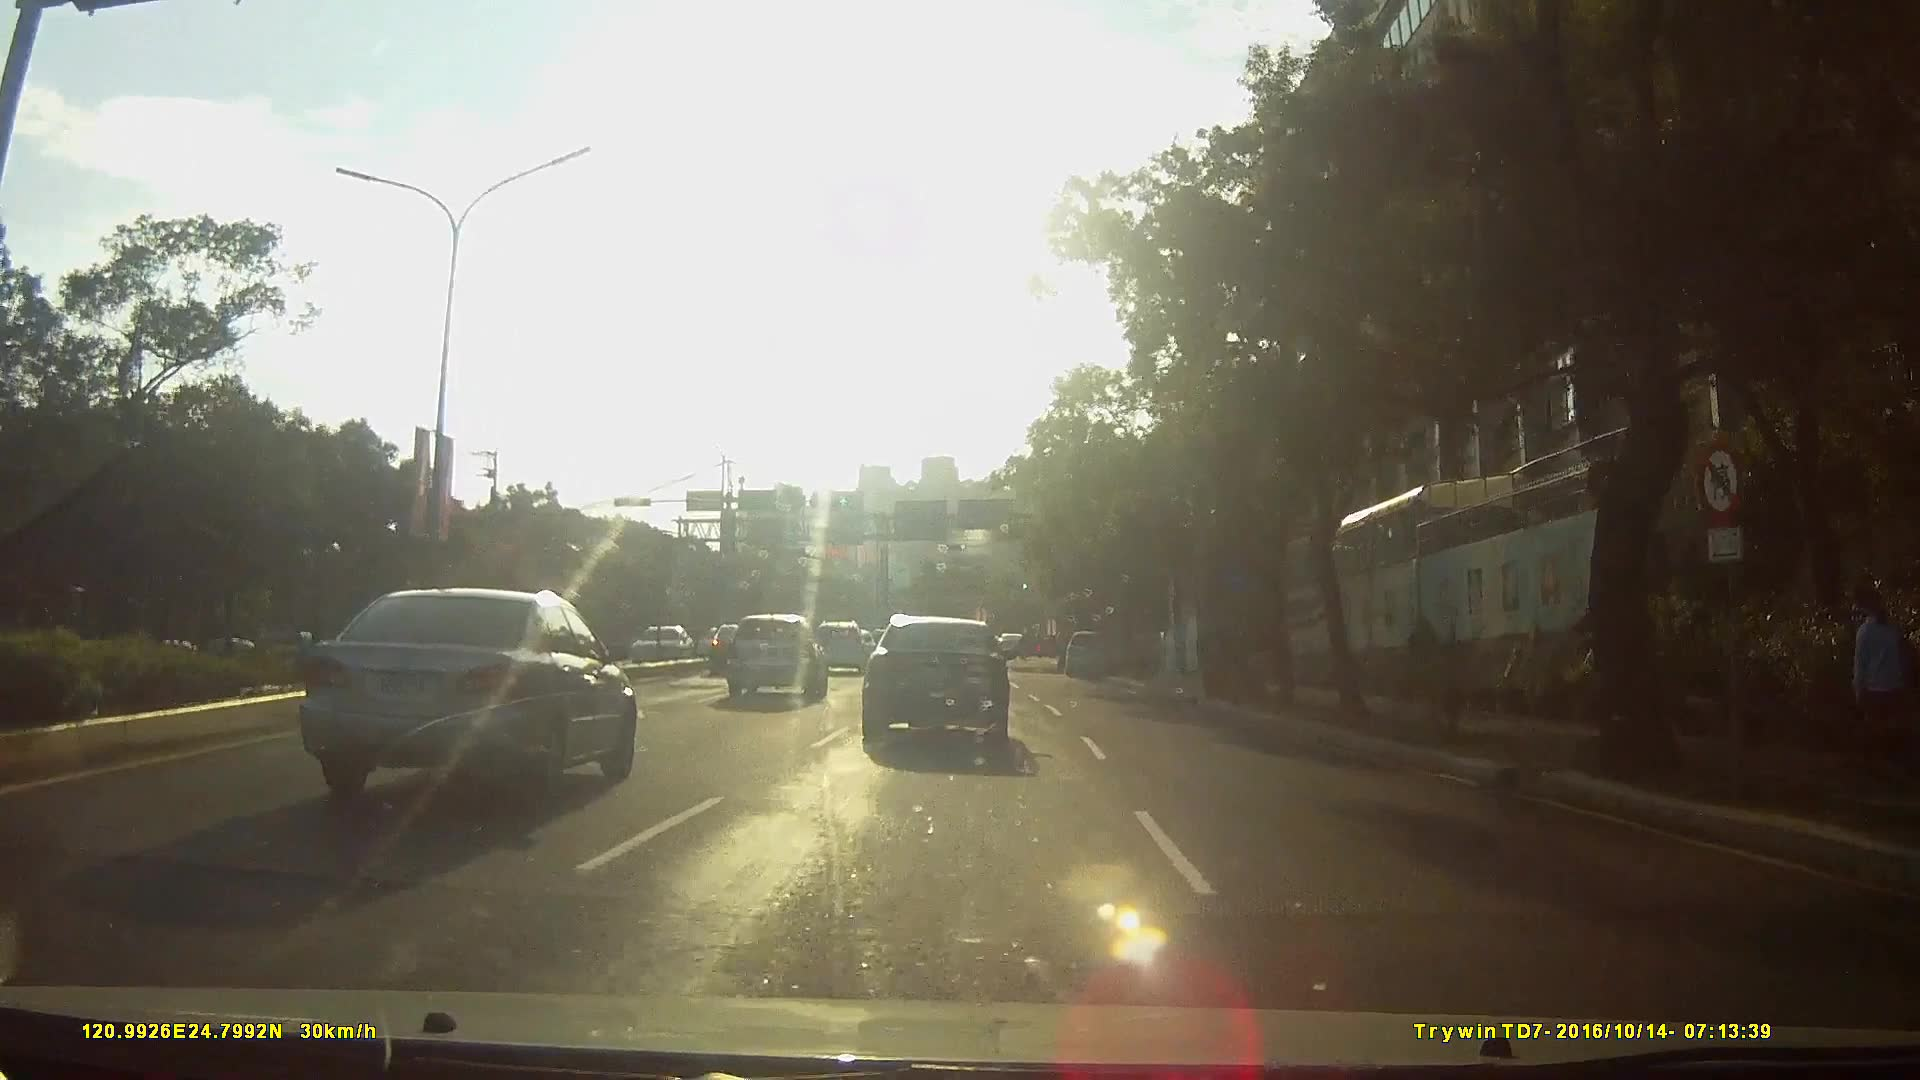pedestrian: (1847, 587, 1905, 786)
vehicle: (272, 582, 649, 817), (862, 610, 1035, 759), (722, 611, 828, 704), (620, 618, 709, 668), (696, 623, 759, 681), (806, 620, 868, 678), (1060, 630, 1115, 680), (696, 624, 739, 661)
